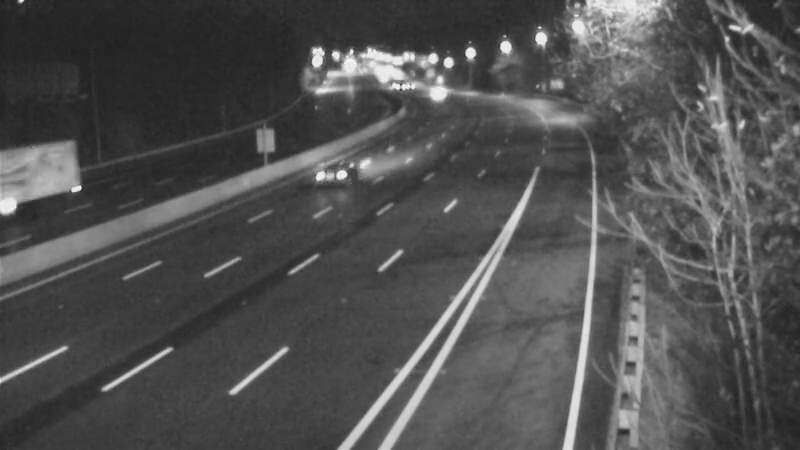vehicle: (303, 128, 383, 208), (1, 158, 74, 238), (377, 60, 427, 110), (409, 65, 459, 115)
